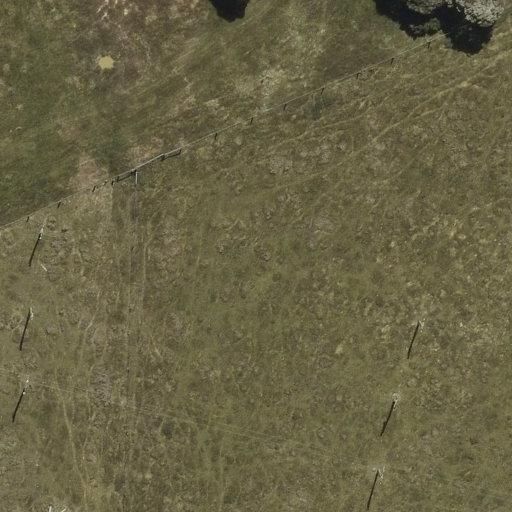DT: (367, 459, 394, 490), (386, 389, 410, 419), (32, 221, 55, 251), (22, 303, 44, 334), (409, 313, 433, 340), (14, 375, 37, 402)
